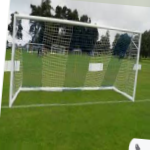goals: (8, 12, 143, 108)
